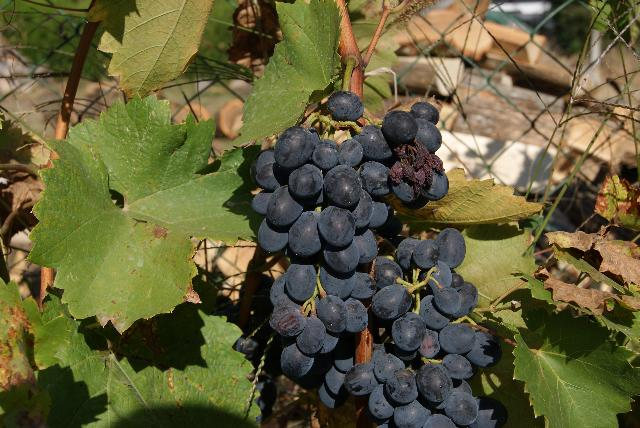grapes: (252, 102, 449, 375), (344, 229, 508, 428)
